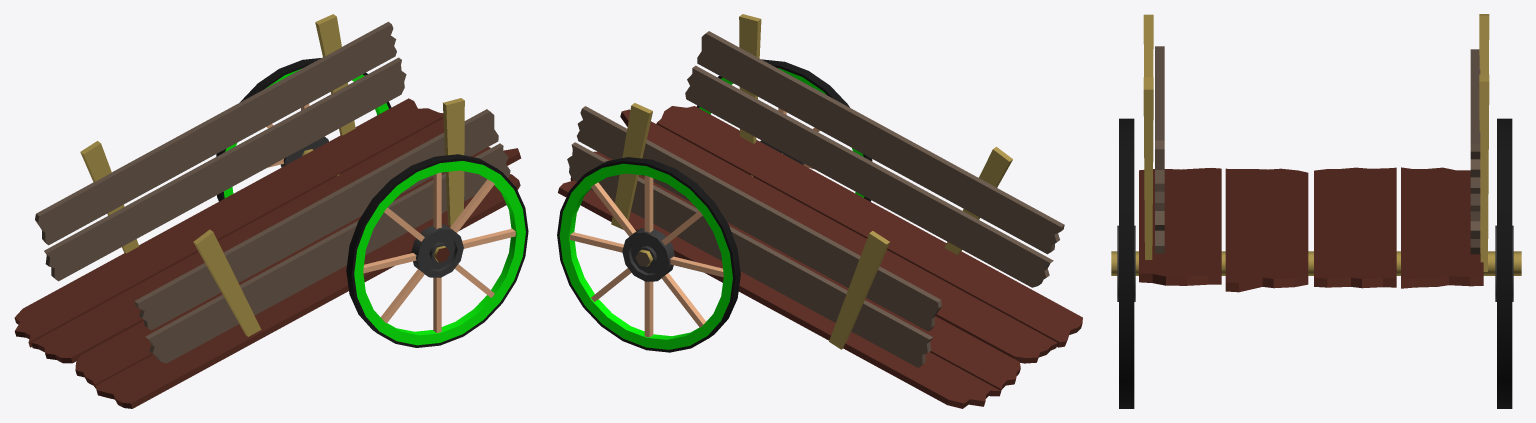
Rendered from Wooden Carriage.fbx.
3 views of the same model, side by side, from view 1: azimuth 30°, elevation 25°; view 2: azimuth 150°, elevation 25°; view 3: azimuth 270°, elevation 25° (orthographic). The views are drawn at different scales.
Parts seen in each view (by area): view 1: Line007, Cylinder001, Cylinder003; view 2: Line007, Cylinder003, Cylinder001; view 3: Line007, Cylinder003, Cylinder001.
Part boxes in pixels (<box>): Line007: <box>14,14,521,408</box>; Cylinder001: <box>346,154,528,347</box>; Cylinder003: <box>216,58,391,201</box>; Line007: <box>558,14,1082,408</box>; Cylinder003: <box>557,157,740,352</box>; Cylinder001: <box>696,59,872,201</box>; Line007: <box>1111,14,1521,292</box>; Cylinder003: <box>1495,118,1513,408</box>; Cylinder001: <box>1117,118,1135,408</box>.
Bounding box in the file's own units: 173 × 87.91 × 99.03.
